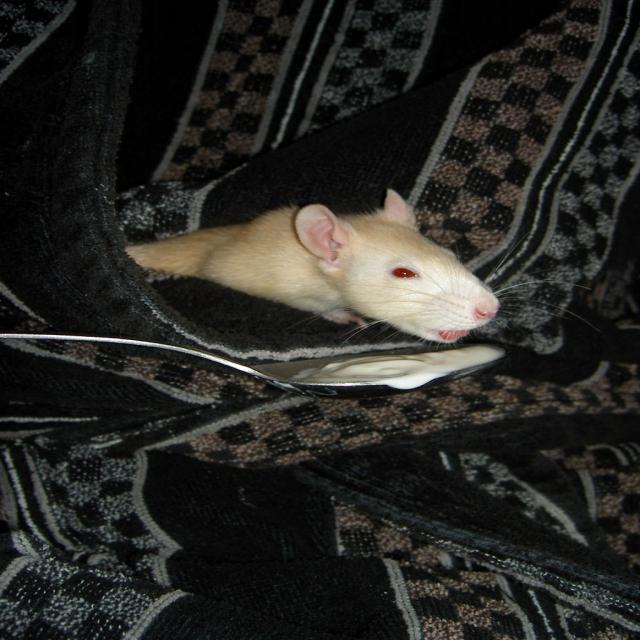rat: (126, 187, 604, 364)
